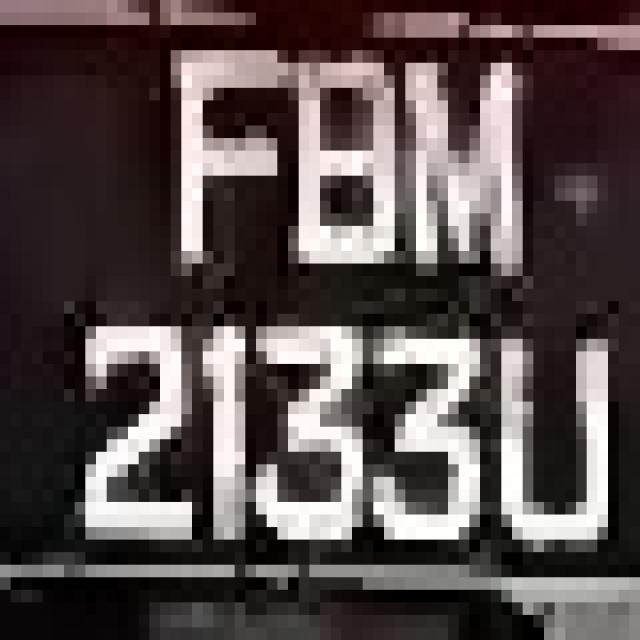1: (192, 301, 256, 577)
2: (53, 264, 192, 552)
3: (341, 301, 480, 565), (235, 301, 341, 577)
B: (256, 25, 416, 289)
F: (139, 38, 277, 288)
M: (384, 50, 555, 276)
U: (470, 301, 598, 565)
